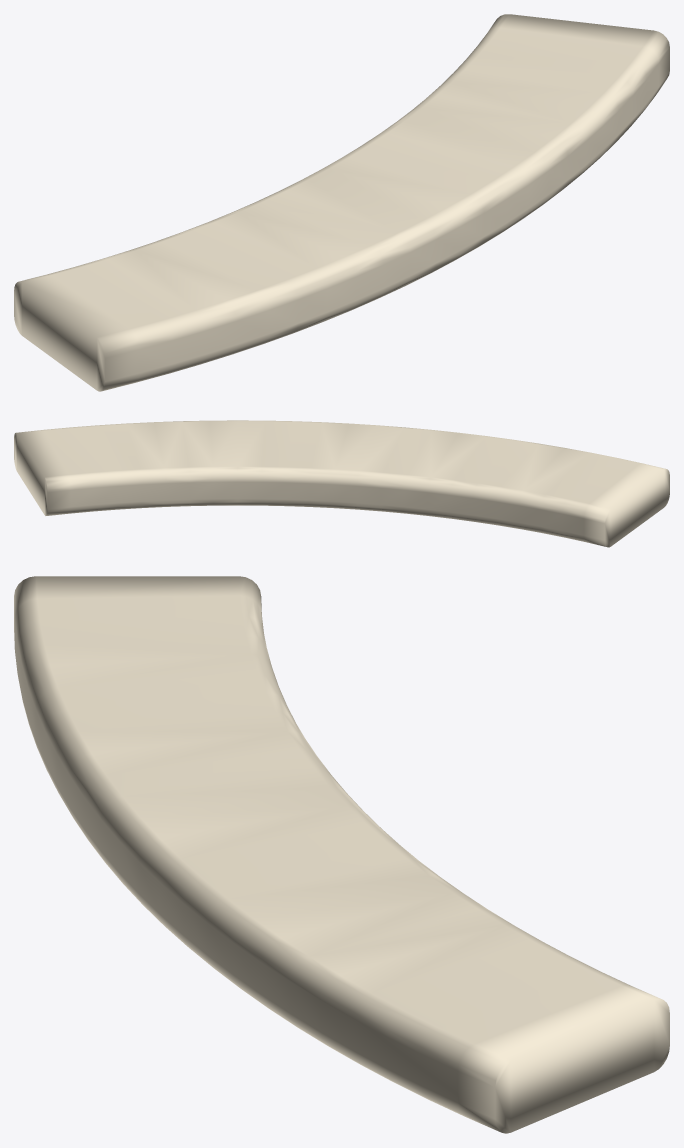
Rendered from ArcCoping_R2_A45.glb.
The picture shows the model from 3 angles, top to bottom: view 1: azimuth 30°, elevation 25°; view 2: azimuth 150°, elevation 25°; view 3: azimuth 270°, elevation 25°; orthographic projection. The views are drawn at different scales.
Parts seen in each view (by area): view 1: PBK_Coping.012; view 2: PBK_Coping.012; view 3: PBK_Coping.012.
Boxes of the visible parts, x1=… form: PBK_Coping.012: x1=14, y1=14, x2=669, y2=391; PBK_Coping.012: x1=14, y1=420, x2=669, y2=547; PBK_Coping.012: x1=14, y1=576, x2=669, y2=1133.
Bounding box in the file's own units: 1.46 × 0.1 × 0.8226.
